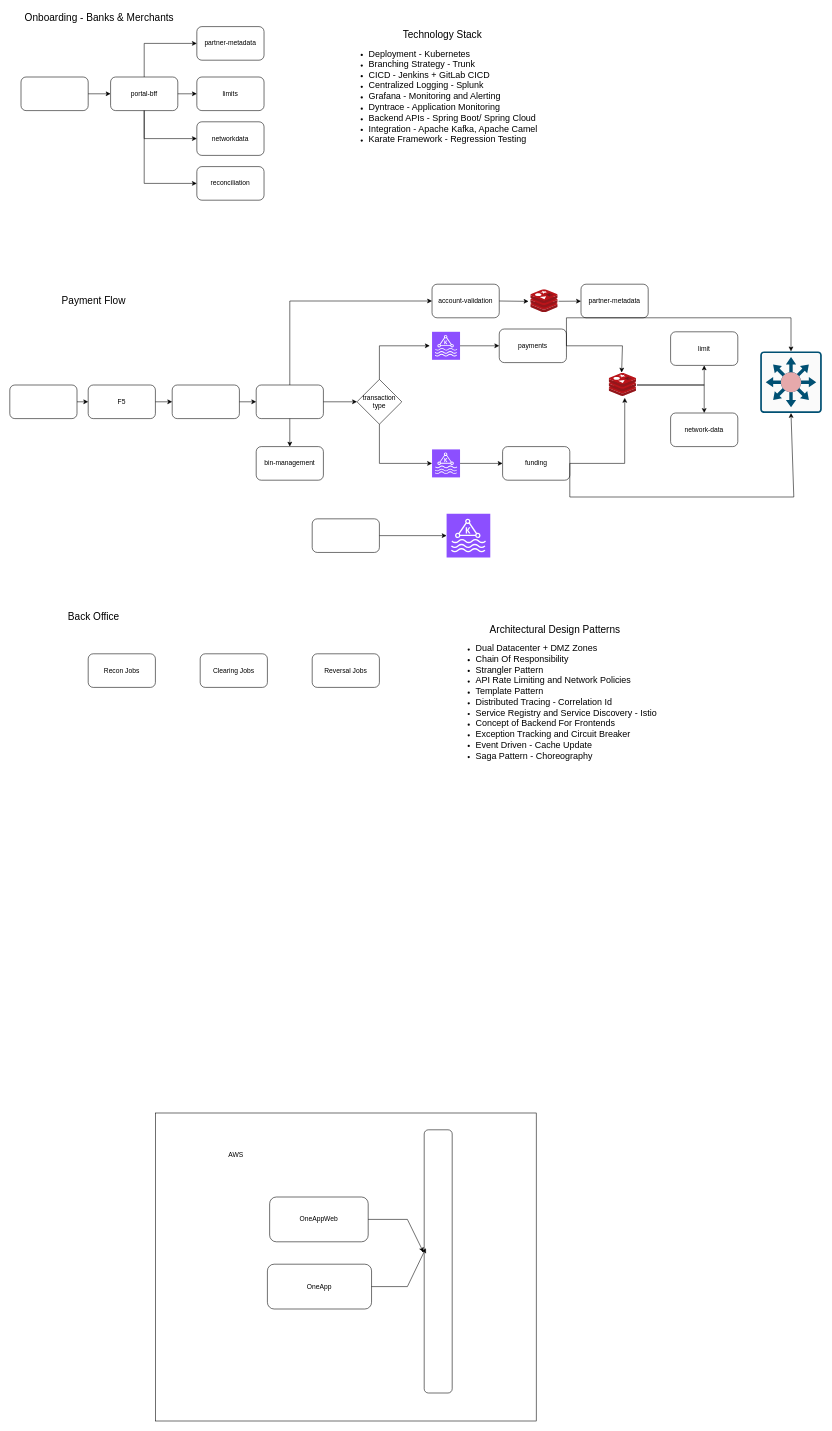
The diagram is 832 pixels wide and 1431 high, and some of its shapes have lost their labels. Here are the shapes that lost their labels. From the top down, the centre of each, then its label:
At (x=54, y=93): "ui-portal".
At (x=43, y=401): "Akamai".
At (x=205, y=401): "API-Gateway".
At (x=289, y=401): "transfer".
At (x=345, y=535): "core-exception-manager".
At (x=438, y=1261): "MAPI".
